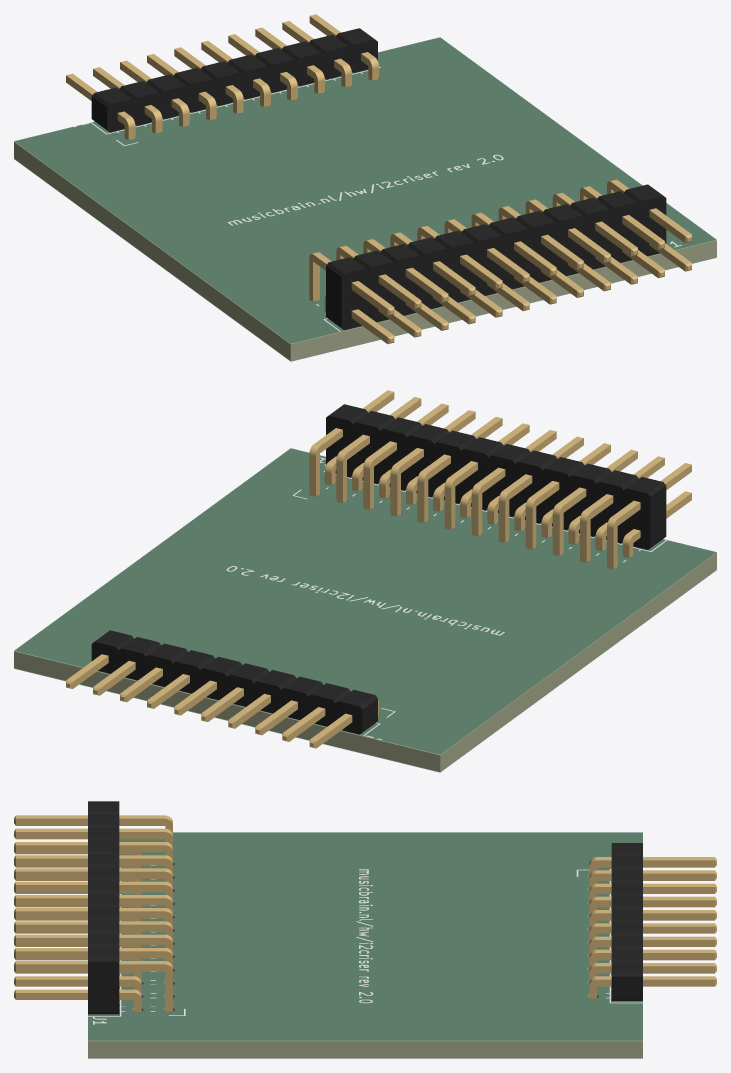
The model's file is musicbrain-i2criser.glb.
3 views of the same model, one above another, from view 1: azimuth 30°, elevation 25°; view 2: azimuth 150°, elevation 25°; view 3: azimuth 270°, elevation 25° (orthographic).
Visible parts, largest first — view 1: =>[0:1:1:9], =>[0:1:1:7], =>[0:1:1:3], =>[0:1:1:5], =>[0:1:1:6], =>[0:1:1:8]; view 2: =>[0:1:1:9], =>[0:1:1:7], =>[0:1:1:3], =>[0:1:1:5], =>[0:1:1:6], =>[0:1:1:8]; view 3: =>[0:1:1:9], =>[0:1:1:7], =>[0:1:1:3], =>[0:1:1:5], =>[0:1:1:6], =>[0:1:1:8].
Boxes of the visible parts, x1,y1,x2,y2 form: =>[0:1:1:9]: (14,38,716,360); =>[0:1:1:7]: (14,37,716,343); =>[0:1:1:3]: (309,179,691,344); =>[0:1:1:5]: (66,14,378,139); =>[0:1:1:6]: (73,66,681,331); =>[0:1:1:8]: (14,159,716,361); =>[0:1:1:9]: (14,449,716,771); =>[0:1:1:7]: (14,448,716,754); =>[0:1:1:3]: (309,390,691,568); =>[0:1:1:5]: (66,630,378,748); =>[0:1:1:6]: (226,457,667,739); =>[0:1:1:8]: (14,570,716,772); =>[0:1:1:9]: (88,833,642,1058); =>[0:1:1:7]: (88,832,642,1040); =>[0:1:1:3]: (14,801,172,1014); =>[0:1:1:5]: (589,843,716,1000); =>[0:1:1:6]: (88,865,642,1024); =>[0:1:1:8]: (88,1058,642,1058).
Size of the model in its own units: 0.04 by 0.00808 by 0.057.
